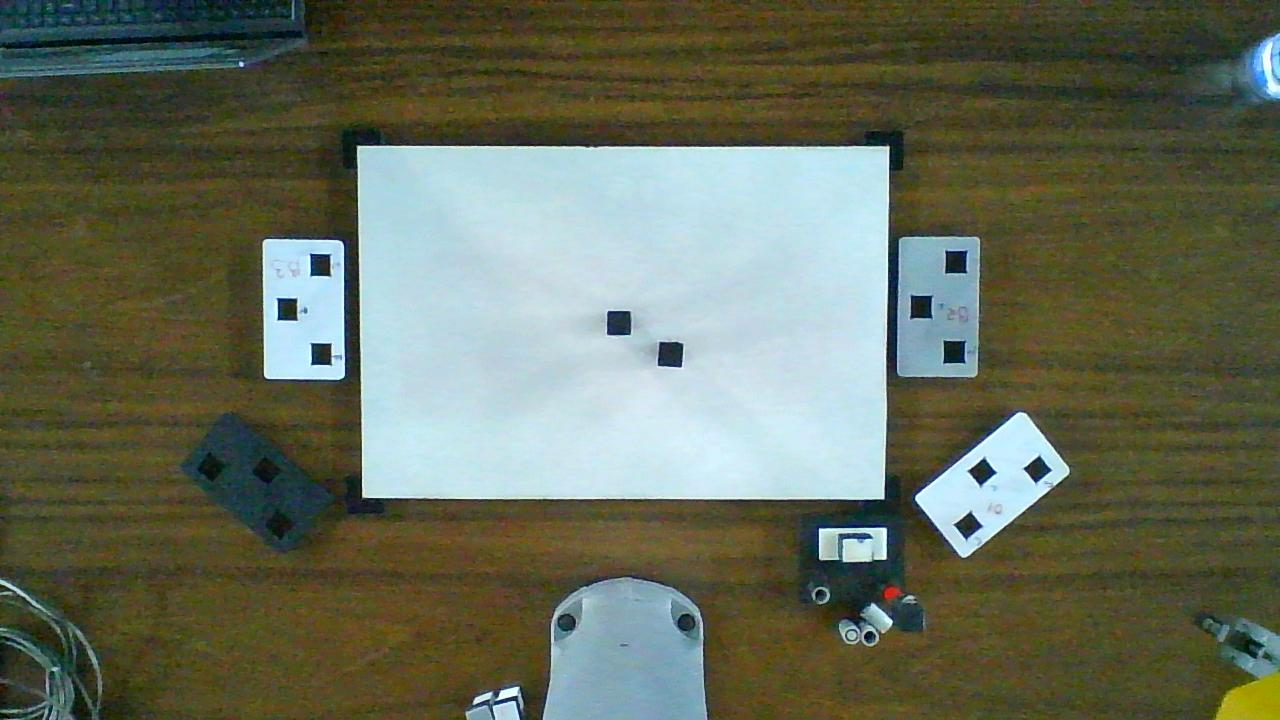peca_preta: (608, 311, 630, 334), (661, 344, 682, 367)
